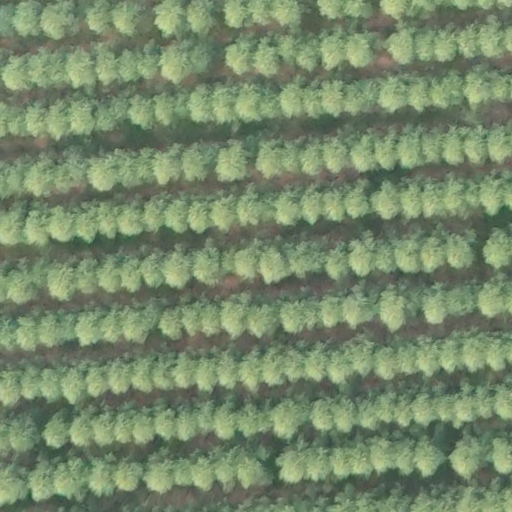eucalipto: (446, 434, 487, 482), (210, 140, 250, 184), (218, 293, 251, 345), (120, 302, 158, 346), (160, 242, 194, 291), (444, 227, 478, 273), (52, 455, 86, 501), (84, 453, 118, 499), (272, 398, 308, 441), (477, 274, 512, 318), (47, 256, 79, 304), (461, 64, 495, 108), (22, 155, 55, 200), (413, 436, 446, 481), (138, 458, 175, 498), (481, 223, 512, 270), (24, 457, 55, 504), (160, 40, 193, 84), (65, 45, 98, 89), (363, 433, 396, 477), (28, 50, 62, 92), (323, 345, 355, 389), (379, 284, 407, 333), (220, 39, 255, 78), (234, 83, 265, 127), (192, 244, 223, 288), (430, 69, 463, 110), (187, 79, 217, 124), (342, 287, 374, 329), (211, 82, 240, 128), (300, 444, 334, 483), (211, 349, 241, 393), (259, 245, 291, 286), (45, 97, 74, 142), (349, 238, 380, 280), (233, 400, 266, 439), (386, 28, 418, 68), (150, 145, 181, 186), (372, 181, 403, 222), (274, 188, 304, 230), (475, 17, 504, 60), (55, 362, 84, 405), (388, 436, 417, 479), (344, 338, 375, 378), (93, 44, 121, 88), (115, 149, 145, 190), (103, 356, 133, 397), (38, 308, 67, 350), (187, 452, 216, 494), (85, 155, 117, 193), (178, 146, 210, 184), (93, 252, 121, 295), (171, 348, 199, 391), (395, 132, 425, 172), (258, 344, 285, 388), (277, 83, 309, 120), (274, 448, 306, 485), (255, 37, 283, 79), (419, 234, 447, 276), (345, 31, 375, 70), (347, 136, 377, 175), (231, 244, 261, 283), (320, 33, 349, 73), (210, 195, 239, 235), (126, 355, 155, 395), (370, 343, 399, 383), (248, 303, 280, 339), (135, 42, 163, 83), (459, 334, 487, 375), (478, 173, 504, 217), (278, 296, 308, 334), (43, 410, 70, 452), (128, 93, 157, 132), (253, 143, 282, 182), (15, 315, 44, 354), (410, 392, 439, 431), (69, 97, 97, 137), (24, 208, 52, 248), (440, 178, 466, 221), (141, 248, 167, 291), (18, 361, 44, 404), (343, 184, 373, 221), (318, 77, 345, 118), (119, 255, 146, 296), (191, 357, 218, 398), (211, 401, 238, 442), (211, 453, 238, 494), (426, 282, 450, 328), (380, 77, 409, 115), (234, 191, 263, 229), (74, 255, 99, 299), (22, 100, 50, 139), (158, 304, 186, 343), (92, 410, 120, 449), (345, 440, 373, 479), (50, 205, 77, 245), (407, 74, 432, 117), (75, 205, 102, 244), (300, 346, 327, 385), (448, 283, 478, 318), (98, 303, 123, 345), (150, 353, 175, 395), (113, 459, 142, 495), (434, 25, 460, 65), (302, 82, 328, 122), (68, 410, 94, 450), (151, 91, 179, 128), (309, 397, 337, 434), (395, 238, 422, 276), (398, 181, 423, 222), (320, 288, 345, 329), (457, 22, 483, 61), (140, 193, 166, 232), (301, 186, 325, 228), (167, 455, 195, 491), (296, 33, 321, 73), (234, 352, 259, 392), (75, 311, 101, 349), (186, 199, 215, 233), (330, 400, 358, 435), (199, 297, 224, 336), (83, 361, 110, 397), (325, 244, 351, 281), (455, 391, 481, 428), (323, 138, 348, 176), (40, 363, 63, 404), (441, 133, 467, 169), (374, 135, 399, 172), (192, 398, 215, 438), (395, 342, 422, 376), (462, 131, 488, 166), (117, 203, 143, 238), (435, 391, 460, 427), (325, 443, 350, 479), (418, 133, 445, 166), (322, 188, 346, 225), (298, 144, 324, 178), (415, 25, 437, 65), (421, 183, 443, 223), (165, 197, 188, 235), (282, 345, 305, 383), (343, 82, 367, 118), (98, 203, 121, 240), (181, 303, 205, 338), (419, 340, 441, 378), (174, 404, 195, 443), (133, 412, 157, 446), (258, 86, 280, 123), (115, 410, 136, 448), (438, 338, 460, 374), (118, 47, 139, 84), (375, 392, 398, 425), (155, 406, 176, 442), (375, 239, 396, 274), (393, 395, 415, 428)
